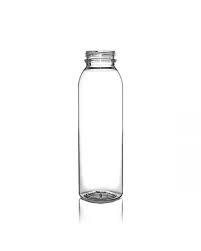Container for household chemicals: (67, 39, 132, 209)
